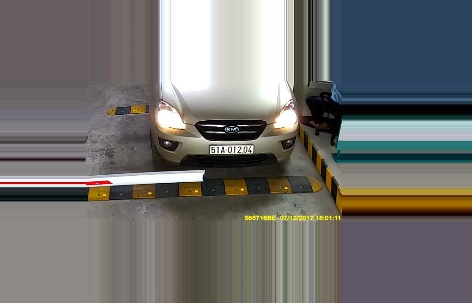plate: (208, 141, 254, 156)
